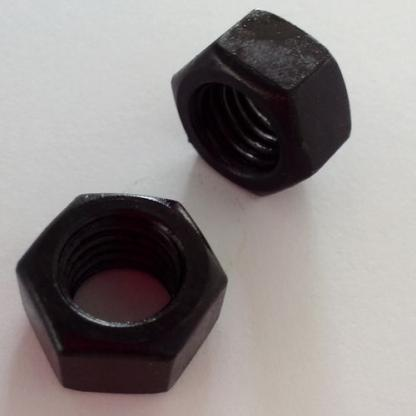FOD: (11, 190, 233, 398), (168, 7, 355, 199)
